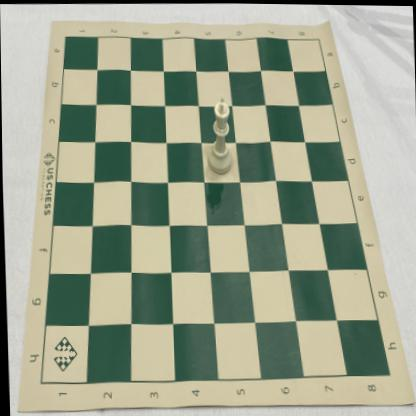white-king: (204, 94, 232, 174)
